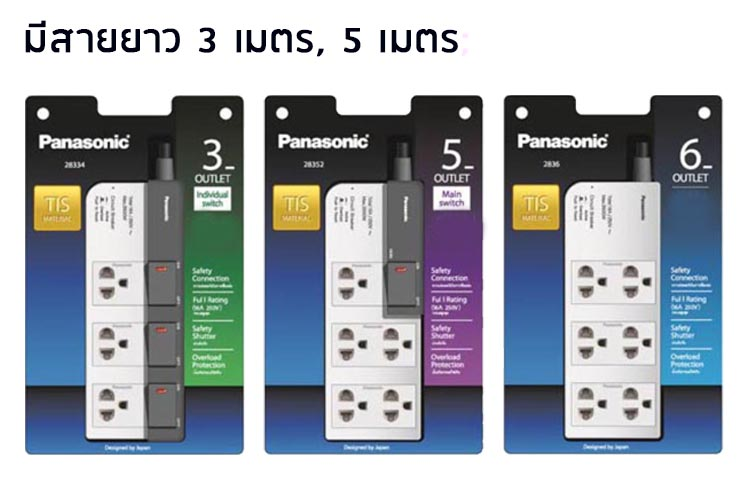Three_eye_plug: (316, 178, 427, 447), (82, 179, 189, 446), (561, 178, 665, 443)
